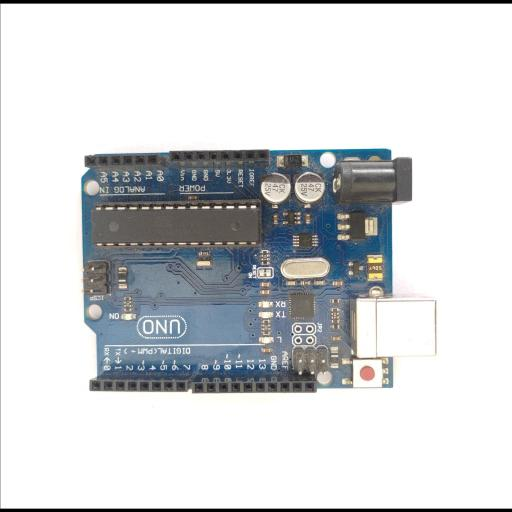Arduino Uno R3: (79, 148, 435, 394)
